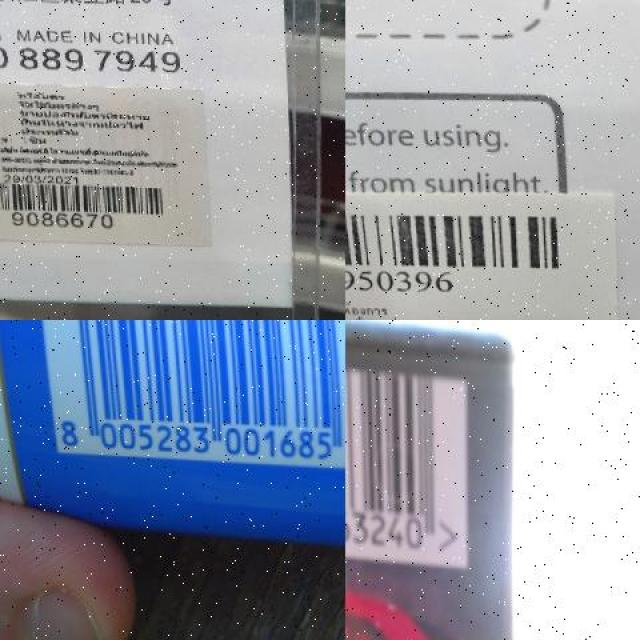Barcode: (26, 320, 346, 465), (345, 341, 471, 567), (345, 187, 584, 297), (0, 169, 175, 231)
